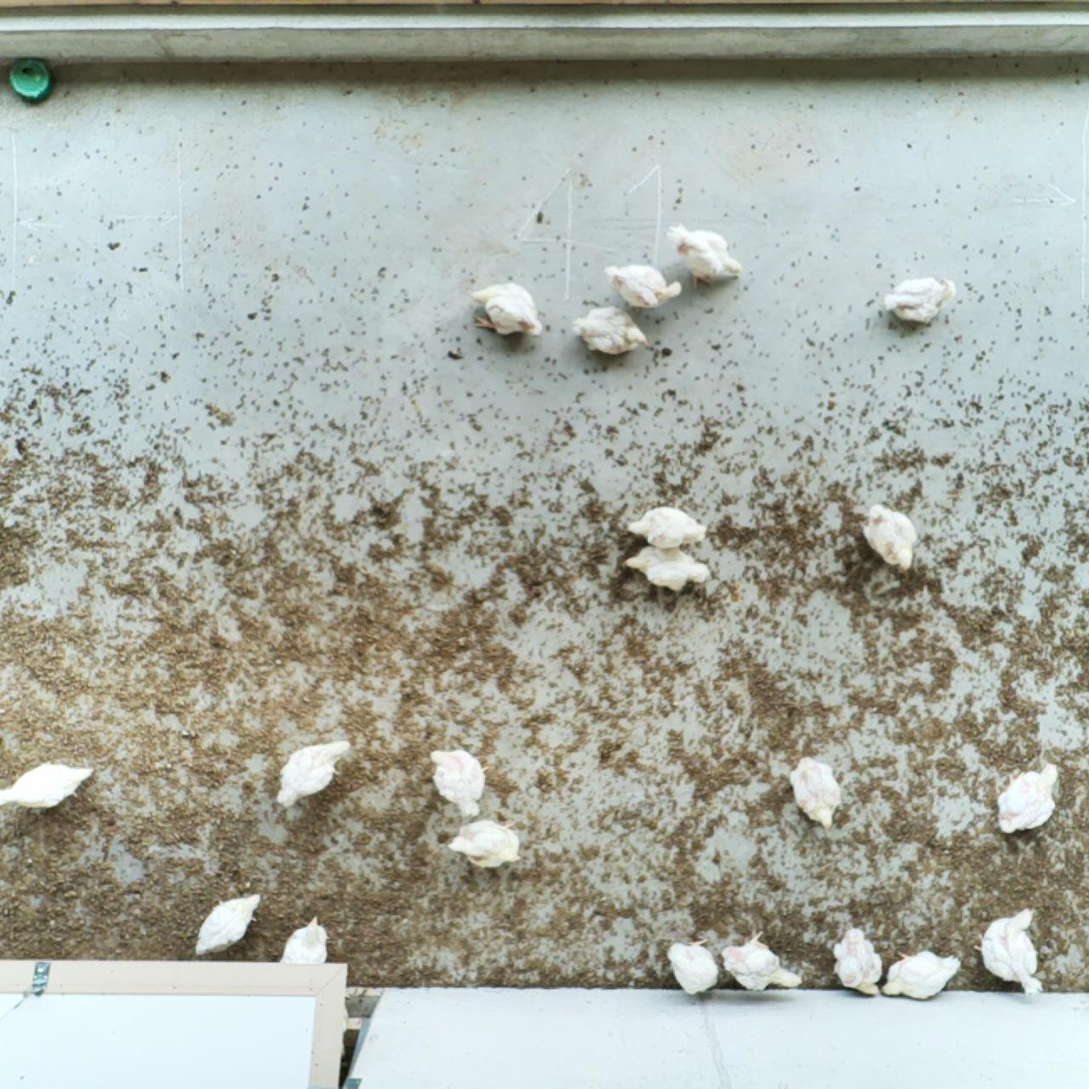chicken: (975, 903, 1047, 1004), (662, 224, 746, 295), (716, 931, 808, 995), (0, 755, 98, 815), (616, 540, 716, 597), (276, 734, 353, 808), (880, 270, 966, 333), (994, 760, 1064, 837), (191, 889, 264, 960), (466, 279, 546, 343), (444, 812, 525, 873), (883, 945, 967, 1002), (426, 746, 492, 817), (604, 259, 690, 313), (861, 499, 922, 574), (785, 756, 846, 830), (570, 302, 652, 357), (626, 501, 714, 551), (828, 925, 886, 997), (664, 934, 723, 996), (278, 911, 334, 967)
